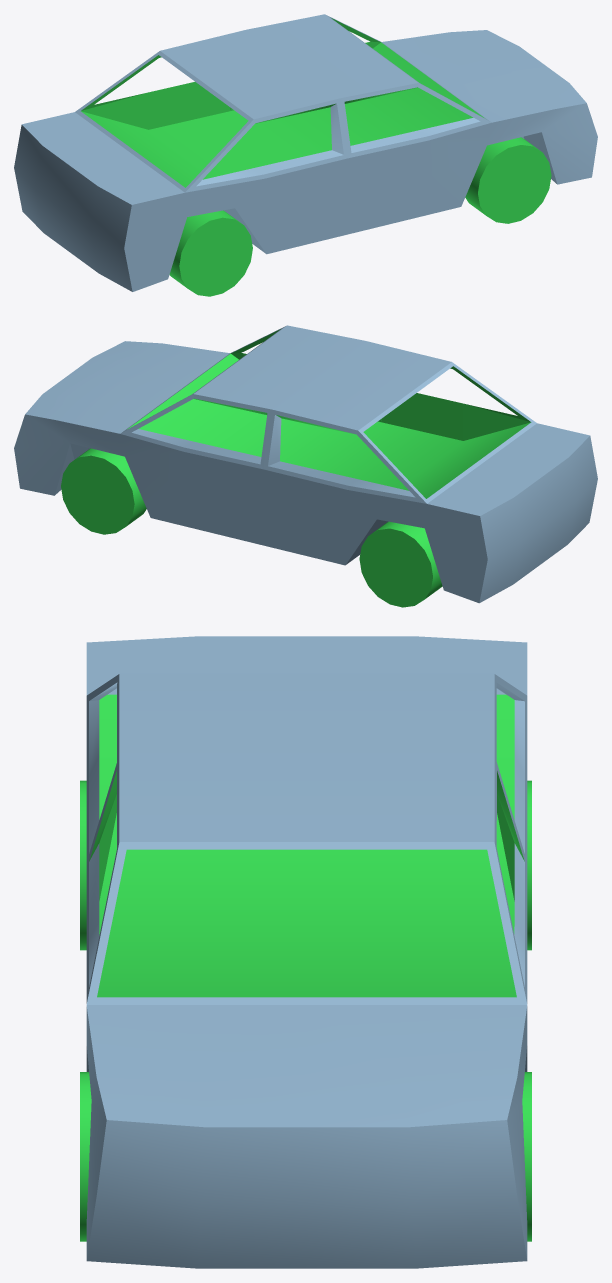
File: SK_Car.FBX
3 views of the same model, one above another, from view 1: azimuth 30°, elevation 25°; view 2: azimuth 150°, elevation 25°; view 3: azimuth 270°, elevation 25° (orthographic). The views are drawn at different scales.
Visible parts, largest first — view 1: CarBody, Tire_frontright, Tire_rearright; view 2: CarBody, Tire_frontleft, Tire_rearleft; view 3: CarBody, Tire_frontright, Tire_frontleft, Tire_rearright, Tire_rearleft.
Part boxes in pixels (x1=…): CarBody: x1=14, y1=14, x2=597, y2=291; Tire_frontright: x1=465, y1=137, x2=551, y2=223; Tire_rearright: x1=169, y1=210, x2=252, y2=296; CarBody: x1=14, y1=325, x2=597, y2=603; Tire_frontleft: x1=61, y1=448, x2=146, y2=534; Tire_rearleft: x1=359, y1=521, x2=442, y2=607; CarBody: x1=86, y1=636, x2=527, y2=1268; Tire_frontright: x1=80, y1=1072, x2=91, y2=1241; Tire_frontleft: x1=522, y1=1072, x2=531, y2=1241; Tire_rearright: x1=80, y1=780, x2=86, y2=950; Tire_rearleft: x1=527, y1=780, x2=531, y2=950.
Size of the model in its own units: 470 by 144 by 188.
